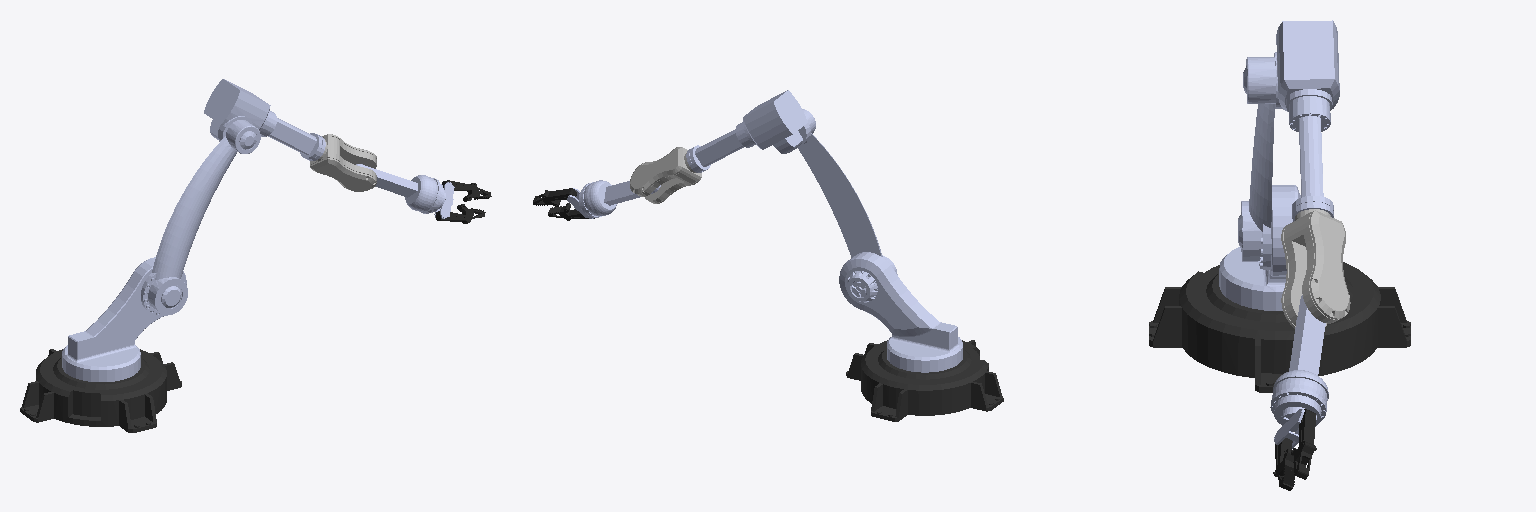
robot.urdf — Arm:
<?xml version="1.0" encoding="utf-8"?>
<!-- This URDF was automatically created by SolidWorks to URDF Exporter! Originally created by [author] ([email redacted]) 
     Commit Version: 1.6.0-4-g7f85cfe  Build Version: 1.6.7995.38578
     For more information, please see http://wiki.ros.org/sw_urdf_exporter -->
<robot
  name="Arm">
  <link
    name="base_link">
    <inertial>
      <origin
        xyz="0.13956 0.11738 0.35198"
        rpy="0 0 0" />
      <mass
        value="5.7726" />
      <inertia
        ixx="0.036501"
        ixy="-4.1272E-05"
        ixz="-0.00079967"
        iyy="0.066646"
        iyz="4.1272E-05"
        izz="0.036501" />
    </inertial>
    <visual>
      <origin
        xyz="0 0 0"
        rpy="0 0 0" />
      <geometry>
        <mesh
          filename="package://arm_description/meshes/base_link.STL" />
      </geometry>
      <material
        name="">
        <color
          rgba="0.25098 0.25098 0.25098 1" />
      </material>
    </visual>
    <collision>
      <origin
        xyz="0 0 0"
        rpy="0 0 0" />
      <geometry>
        <mesh
          filename="package://arm_description/meshes/base_link.STL" />
      </geometry>
    </collision>
  </link>
  <link
    name="Link_1">
    <inertial>
      <origin
        xyz="0.056932 0.082737 -0.0027559"
        rpy="0 0 0" />
      <mass
        value="2.3043" />
      <inertia
        ixx="0.011898"
        ixy="-0.0090526"
        ixz="0.00047145"
        iyy="0.016192"
        iyz="0.00041269"
        izz="0.0237" />
    </inertial>
    <visual>
      <origin
        xyz="0 0 0"
        rpy="0 0 0" />
      <geometry>
        <mesh
          filename="package://arm_description/meshes/Link_1.STL" />
      </geometry>
      <material
        name="">
        <color
          rgba="0.79216 0.81961 0.93333 1" />
      </material>
    </visual>
    <collision>
      <origin
        xyz="0 0 0"
        rpy="0 0 0" />
      <geometry>
        <mesh
          filename="package://arm_description/meshes/Link_1.STL" />
      </geometry>
    </collision>
  </link>
  <joint
    name="Joint_Base_1"
    type="revolute">
    <origin
      xyz="0.13813 -0.35341 0.16267"
      rpy="1.5708 0 0.035824" />
    <parent
      link="base_link" />
    <child
      link="Link_1" />
    <axis
      xyz="0 1 0" />
    <limit
      lower="1"
      upper="-1"
      effort="0"
      velocity="0" />
  </joint>
  <link
    name="Link_2">
    <inertial>
      <origin
        xyz="-0.16174 0.034923 0.011718"
        rpy="0 0 0" />
      <mass
        value="1.0102" />
      <inertia
        ixx="0.00073944"
        ixy="-0.00011194"
        ixz="0.00028635"
        iyy="0.024216"
        iyz="4.5168E-05"
        izz="0.023766" />
    </inertial>
    <visual>
      <origin
        xyz="0 0 0"
        rpy="0 0 0" />
      <geometry>
        <mesh
          filename="package://arm_description/meshes/Link_2.STL" />
      </geometry>
      <material
        name="">
        <color
          rgba="0.79216 0.81961 0.93333 1" />
      </material>
    </visual>
    <collision>
      <origin
        xyz="0 0 0"
        rpy="0 0 0" />
      <geometry>
        <mesh
          filename="package://arm_description/meshes/Link_2.STL" />
      </geometry>
    </collision>
  </link>
  <joint
    name="Joint_1_2"
    type="revolute">
    <origin
      xyz="0.15 0.16 0"
      rpy="1.5708 0 -2.1112" />
    <parent
      link="Link_1" />
    <child
      link="Link_2" />
    <axis
      xyz="0 1 0" />
    <limit
      lower="1"
      upper="-1"
      effort="0"
      velocity="0" />
  </joint>
  <link
    name="Link_3">
    <inertial>
      <origin
        xyz="0.043693 0.038805 -0.026236"
        rpy="0 0 0" />
      <mass
        value="1.3484" />
      <inertia
        ixx="0.0017818"
        ixy="-0.00036826"
        ixz="0.0001039"
        iyy="0.0088479"
        iyz="0.00012426"
        izz="0.0092441" />
    </inertial>
    <visual>
      <origin
        xyz="0 0 0"
        rpy="0 0 0" />
      <geometry>
        <mesh
          filename="package://arm_description/meshes/Link_3.STL" />
      </geometry>
      <material
        name="">
        <color
          rgba="0.79216 0.81961 0.93333 1" />
      </material>
    </visual>
    <collision>
      <origin
        xyz="0 0 0"
        rpy="0 0 0" />
      <geometry>
        <mesh
          filename="package://arm_description/meshes/Link_3.STL" />
      </geometry>
    </collision>
  </link>
  <joint
    name="Joint_2_3"
    type="revolute">
    <origin
      xyz="-0.4 0 0"
      rpy="-1.5708 1.489 0" />
    <parent
      link="Link_2" />
    <child
      link="Link_3" />
    <axis
      xyz="0 0 1" />
    <limit
      lower="1"
      upper="-1"
      effort="0"
      velocity="0" />
  </joint>
  <link
    name="Link_4">
    <inertial>
      <origin
        xyz="-0.033058 -3.0254E-10 -4.8768E-10"
        rpy="0 0 0" />
      <mass
        value="0.64477" />
      <inertia
        ixx="0.00060715"
        ixy="-1.1165E-11"
        ixz="-1.8235E-11"
        iyy="0.0022492"
        iyz="-1.3648E-11"
        izz="0.0020804" />
    </inertial>
    <visual>
      <origin
        xyz="0 0 0"
        rpy="0 0 0" />
      <geometry>
        <mesh
          filename="package://arm_description/meshes/Link_4.STL" />
      </geometry>
      <material
        name="">
        <color
          rgba="0.75294 0.75294 0.75294 1" />
      </material>
    </visual>
    <collision>
      <origin
        xyz="0 0 0"
        rpy="0 0 0" />
      <geometry>
        <mesh
          filename="package://arm_description/meshes/Link_4.STL" />
      </geometry>
    </collision>
  </link>
  <joint
    name="Joint_3_4"
    type="revolute">
    <origin
      xyz="0.31168 0.045 -0.028"
      rpy="-0.84002 0 -3.1416" />
    <parent
      link="Link_3" />
    <child
      link="Link_4" />
    <axis
      xyz="1 0 0" />
    <limit
      lower="1"
      upper="-1"
      effort="0"
      velocity="0" />
  </joint>
  <link
    name="Link_5">
    <inertial>
      <origin
        xyz="-0.0045 -5.218E-15 0.13882"
        rpy="0 0 0" />
      <mass
        value="0.40208" />
      <inertia
        ixx="0.0016392"
        ixy="2.1684E-19"
        ixz="-1.8347E-18"
        iyy="0.0016271"
        iyz="9.5545E-19"
        izz="0.00023562" />
    </inertial>
    <visual>
      <origin
        xyz="0 0 0"
        rpy="0 0 0" />
      <geometry>
        <mesh
          filename="package://arm_description/meshes/Link_5.STL" />
      </geometry>
      <material
        name="">
        <color
          rgba="0.79216 0.81961 0.93333 1" />
      </material>
    </visual>
    <collision>
      <origin
        xyz="0 0 0"
        rpy="0 0 0" />
      <geometry>
        <mesh
          filename="package://arm_description/meshes/Link_5.STL" />
      </geometry>
    </collision>
  </link>
  <joint
    name="Joint_4_5"
    type="revolute">
    <origin
      xyz="-0.092324 0 0"
      rpy="2.9431 1.5708 0" />
    <parent
      link="Link_4" />
    <child
      link="Link_5" />
    <axis
      xyz="1 0 0" />
    <limit
      lower="1"
      upper="-1"
      effort="0"
      velocity="0" />
  </joint>
  <link
    name="Link_6">
    <inertial>
      <origin
        xyz="0.00946896465660851 -5.77315972805081E-15 -7.7715611723761E-16"
        rpy="0 0 0" />
      <mass
        value="0.0752385201489075" />
      <inertia
        ixx="4.0422849828495E-05"
        ixy="-1.20702194983738E-20"
        ixz="8.470329472543E-21"
        iyy="3.64885618634807E-05"
        iyz="5.0821976835258E-21"
        izz="2.98822099324082E-05" />
    </inertial>
    <visual>
      <origin
        xyz="0 0 0"
        rpy="0 0 0" />
      <geometry>
        <mesh
          filename="package://arm_description/meshes/Link_6.STL" />
      </geometry>
      <material
        name="">
        <color
          rgba="0.792156862745098 0.819607843137255 0.933333333333333 1" />
      </material>
    </visual>
    <collision>
      <origin
        xyz="0 0 0"
        rpy="0 0 0" />
      <geometry>
        <mesh
          filename="package://arm_description/meshes/Link_6.STL" />
      </geometry>
    </collision>
  </link>
  <joint
    name="Joint_5_6"
    type="revolute">
    <origin
      xyz="-0.0045 0 0.20816"
      rpy="0.25372 -1.5708 0" />
    <parent
      link="Link_5" />
    <child
      link="Link_6" />
    <axis
      xyz="1 0 0" />
    <limit
      lower="1"
      upper="-1"
      effort="0"
      velocity="0" />
  </joint>
  <link
    name="Endeffector_1">
    <inertial>
      <origin
        xyz="0.0155076727184695 2.44249065417534E-15 0.048187056943639"
        rpy="0 0 0" />
      <mass
        value="0.0401029432913669" />
      <inertia
        ixx="4.15706671935078E-05"
        ixy="-5.9292306307801E-20"
        ixz="-9.4694338582664E-06"
        iyy="4.5583054906934E-05"
        iyz="-2.4225142291473E-19"
        izz="6.1876342629437E-06" />
    </inertial>
    <visual>
      <origin
        xyz="0 0 0"
        rpy="0 0 0" />
      <geometry>
        <mesh
          filename="package://arm_description/meshes/Endeffector_1.STL" />
      </geometry>
      <material
        name="">
        <color
          rgba="0.2 0.2 0.2 1" />
      </material>
    </visual>
    <collision>
      <origin
        xyz="0 0 0"
        rpy="0 0 0" />
      <geometry>
        <mesh
          filename="package://arm_description/meshes/Endeffector_1.STL" />
      </geometry>
    </collision>
  </link>
  <joint
    name="Joint_6_end_1"
    type="revolute">
    <origin
      xyz="0.026728 0 -0.041744"
      rpy="-3.1416 -1.263 0" />
    <parent
      link="Link_6" />
    <child
      link="Endeffector_1" />
    <axis
      xyz="0 1 0" />
    <limit
      lower="1"
      upper="-1"
      effort="0"
      velocity="0" />
  </joint>
  <link
    name="Endeffector_2">
    <inertial>
      <origin
        xyz="0.015508 -9.3259E-15 0.048187"
        rpy="0 0 0" />
      <mass
        value="0.040103" />
      <inertia
        ixx="4.1571E-05"
        ixy="5.2516E-20"
        ixz="-9.4694E-06"
        iyy="4.5583E-05"
        iyz="2.4903E-19"
        izz="6.1876E-06" />
    </inertial>
    <visual>
      <origin
        xyz="0 0 0"
        rpy="0 0 0" />
      <geometry>
        <mesh
          filename="package://arm_description/meshes/Endeffector_2.STL" />
      </geometry>
      <material
        name="">
        <color
          rgba="0.2 0.2 0.2 1" />
      </material>
    </visual>
    <collision>
      <origin
        xyz="0 0 0"
        rpy="0 0 0" />
      <geometry>
        <mesh
          filename="package://arm_description/meshes/Endeffector_2.STL" />
      </geometry>
    </collision>
  </link>
  <joint
    name="Joint_6_end_2"
    type="revolute">
    <origin
      xyz="0.026728 0 0.041744"
      rpy="3.1416 1.4745 3.1416" />
    <parent
      link="Link_6" />
    <child
      link="Endeffector_2" />
    <axis
      xyz="0 1 0" />
    <limit
      lower="1"
      upper="-1"
      effort="0"
      velocity="0" />
  </joint>
</robot>

--- Facts derived from the render (not from the file) ---
Views: 3 orthographic renders of the robot side by side, from view 1: azimuth 30°, elevation 25°; view 2: azimuth 150°, elevation 25°; view 3: azimuth 270°, elevation 25°.
Model Arm with 9 links and 8 joints (8 revolute), rooted at base_link, posed every joint at zero.
Visible links, largest first — view 1: base_link, Link_2, Link_1, Link_3, Link_4, Link_5; view 2: base_link, Link_1, Link_3, Link_2, Link_4, Link_5; view 3: base_link, Link_3, Link_4, Link_2, Link_1, Link_5, Link_6, Endeffector_1, Endeffector_2.
Link boxes in pixels (x1,y1,x2,y2): base_link: (20, 349, 181, 432); Link_2: (141, 120, 260, 315); Link_1: (62, 257, 186, 381); Link_3: (204, 79, 325, 160); Link_4: (310, 134, 376, 191); Link_5: (356, 164, 440, 213); base_link: (846, 340, 1003, 421); Link_1: (839, 252, 962, 372); Link_3: (686, 90, 810, 172); Link_2: (798, 109, 897, 274); Link_4: (630, 147, 701, 203); Link_5: (581, 180, 660, 217); base_link: (1149, 262, 1410, 392); Link_3: (1274, 20, 1339, 221); Link_4: (1281, 209, 1350, 328); Link_2: (1238, 57, 1275, 269); Link_1: (1219, 185, 1300, 310); Link_5: (1270, 295, 1328, 421); Link_6: (1274, 396, 1320, 448); Endeffector_1: (1291, 409, 1316, 479); Endeffector_2: (1273, 438, 1294, 490).
Size in the robot's own frame: 1.24 by 0.3905 by 0.6893 metres.
9 mesh visuals loaded from 9 distinct referenced files (9 binary STL).